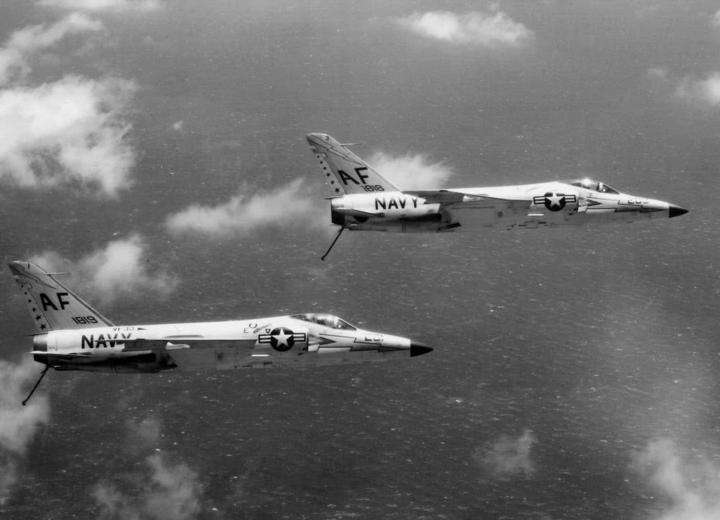airplane: (7, 228, 436, 398), (302, 123, 695, 236)
